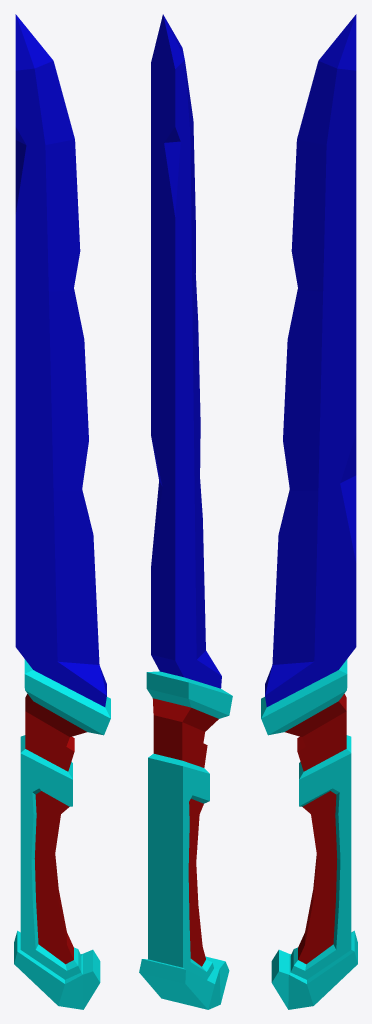
File: Sword_Rare_MagistoneKatana.fbx
The picture shows the model from 3 angles, left to right: view 1: azimuth 90°, elevation 25°; view 2: azimuth 150°, elevation 25°; view 3: azimuth 270°, elevation 25°; orthographic projection. The views are drawn at different scales.
Visible parts, largest first — view 1: SM_Wep_Straightsword_01; view 2: SM_Wep_Straightsword_01; view 3: SM_Wep_Straightsword_01.
Part boxes in pixels (<box>): SM_Wep_Straightsword_01: <box>14,14,110,1009</box>; SM_Wep_Straightsword_01: <box>139,14,232,1009</box>; SM_Wep_Straightsword_01: <box>261,14,357,1009</box>.
Bounding box in the file's own units: 0.0626 × 1.14 × 0.1012.
